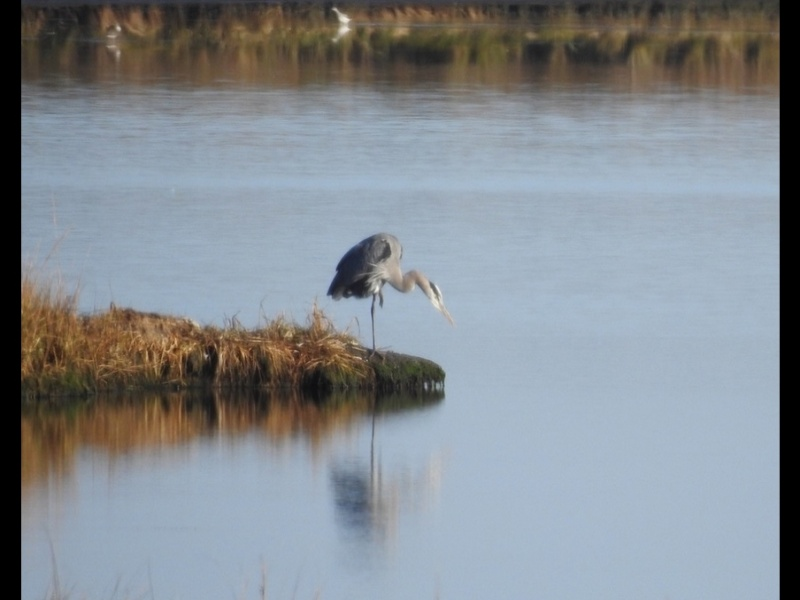heron: (326, 229, 457, 347)
